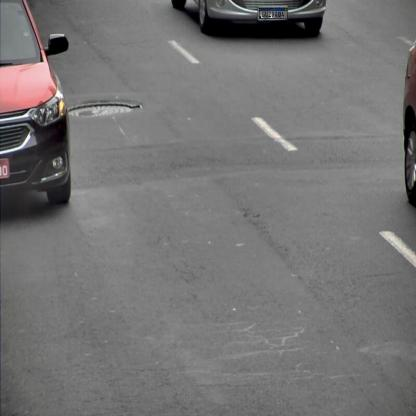PlacaM: (259, 7, 288, 18)
